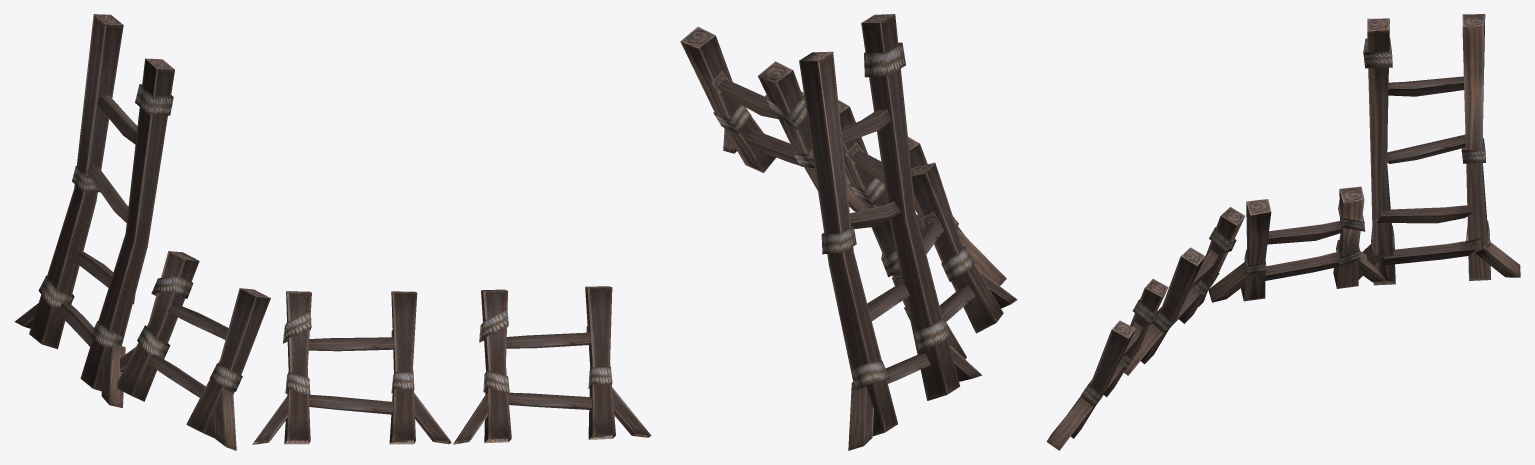
Rendered from object_mine_reinforcements01.fbx.
The picture shows the model from 3 angles, left to right: view 1: azimuth 30°, elevation 25°; view 2: azimuth 150°, elevation 25°; view 3: azimuth 270°, elevation 25°; orthographic projection. The views are drawn at different scales.
Parts seen in each view (by area): view 1: mine_supports; view 2: mine_supports; view 3: mine_supports.
Part boxes in pixels (x1=…): mine_supports: x1=14, y1=14, x2=651, y2=450; mine_supports: x1=680, y1=14, x2=1017, y2=450; mine_supports: x1=1046, y1=14, x2=1520, y2=450.
Size of the model in its own units: 13.04 by 10.71 by 15.51.
